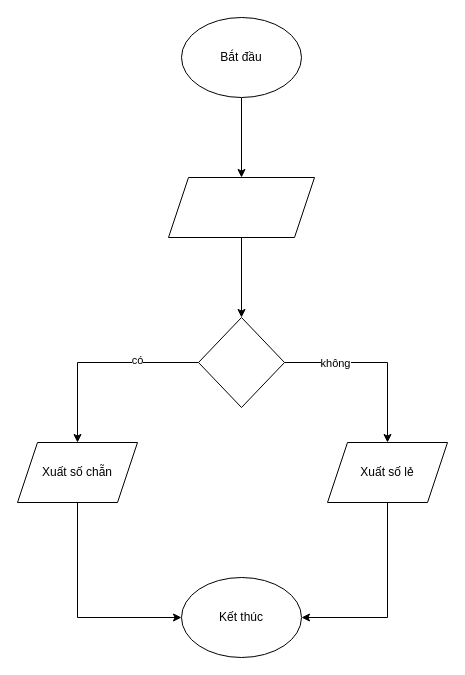
Image size: 465x675. Some labels were removed from this diagram. The centre of each missing label's shape, as x and y in pixels:
"n % 2= 0?" goes at point 241,362.
"Nhập số nguyên a,b" goes at point 241,207.
